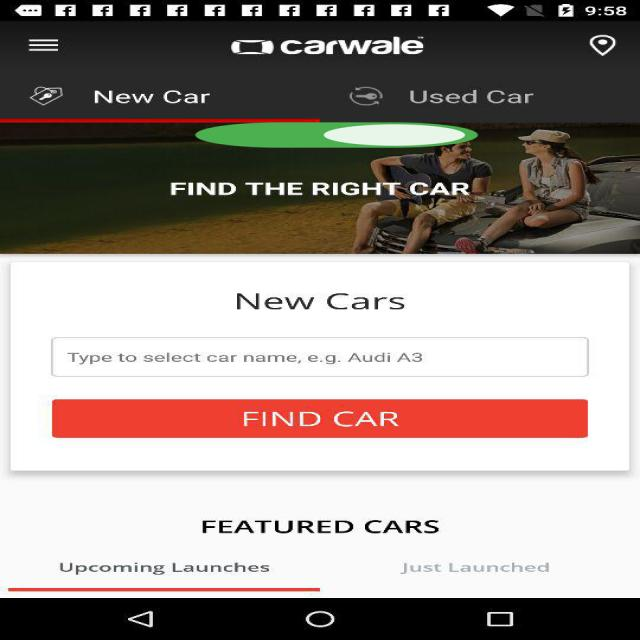social proof: (182, 113, 490, 159)
